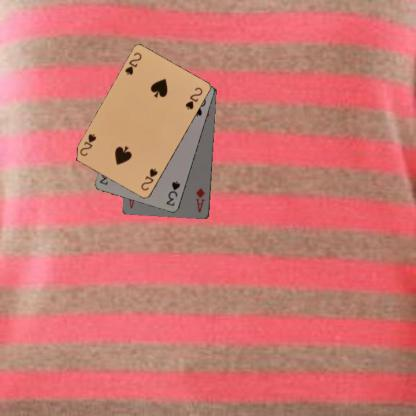2s: (138, 166, 159, 192), (122, 51, 142, 76)
3s: (164, 178, 182, 208)
Ad: (193, 185, 206, 214)
